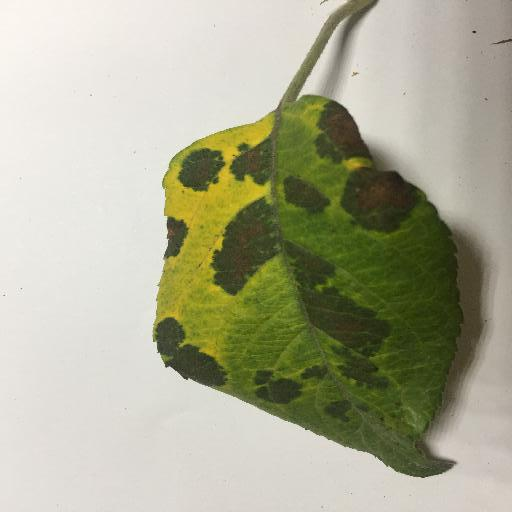Brown_Spot: (208, 204, 278, 299), (147, 320, 234, 388), (304, 291, 390, 349), (354, 174, 415, 215), (287, 247, 334, 288), (315, 111, 355, 152), (227, 147, 274, 177), (181, 149, 216, 182), (165, 222, 183, 258)
